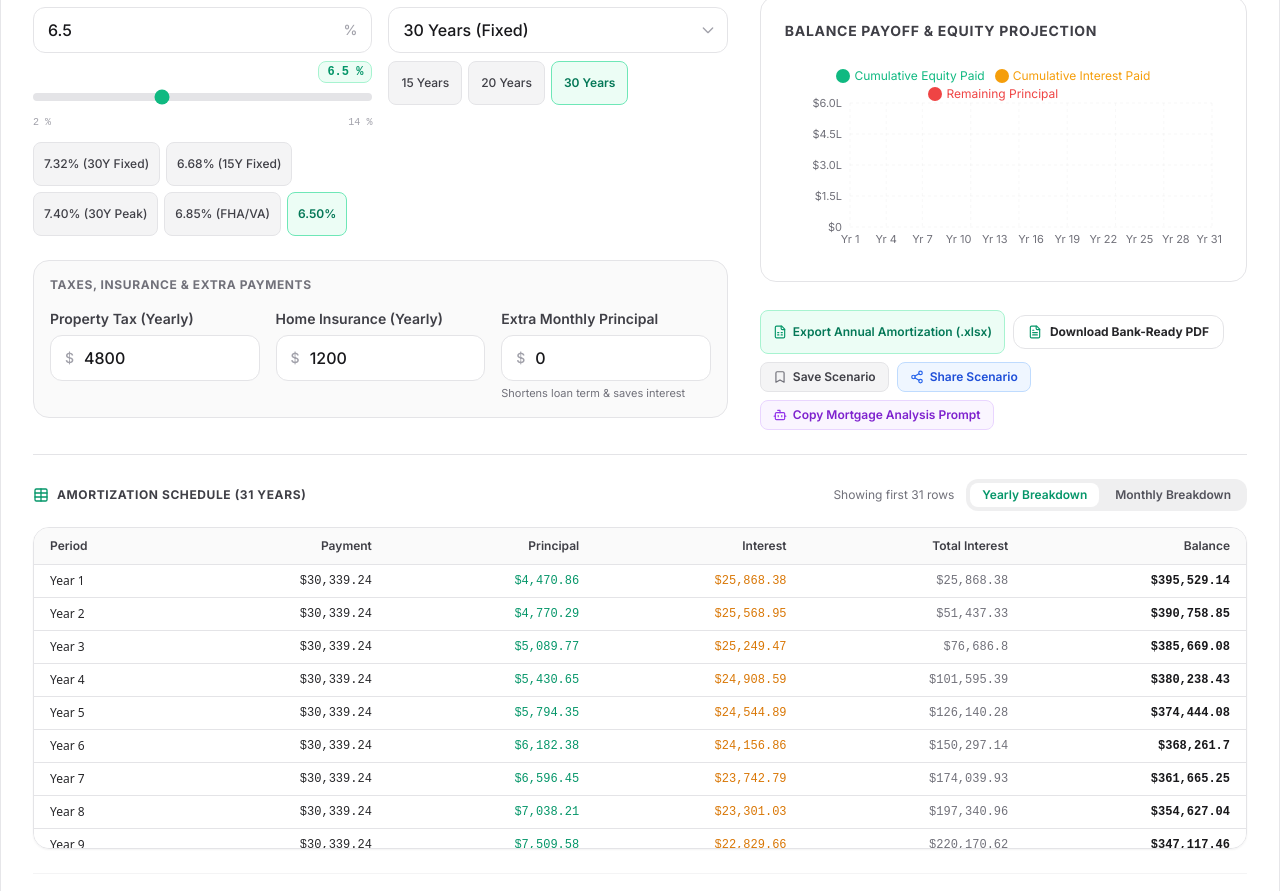
Test: Financial Crown Tools Suite (Mortgage, Car Loan, Retirement, Inflation) › MortgageCalculator › allows toggling between yearly and monthly amortization schedules
(page scrolled)
Click the button "Monthly Breakdown": (1173, 495) [1103, 483, 1243, 507]
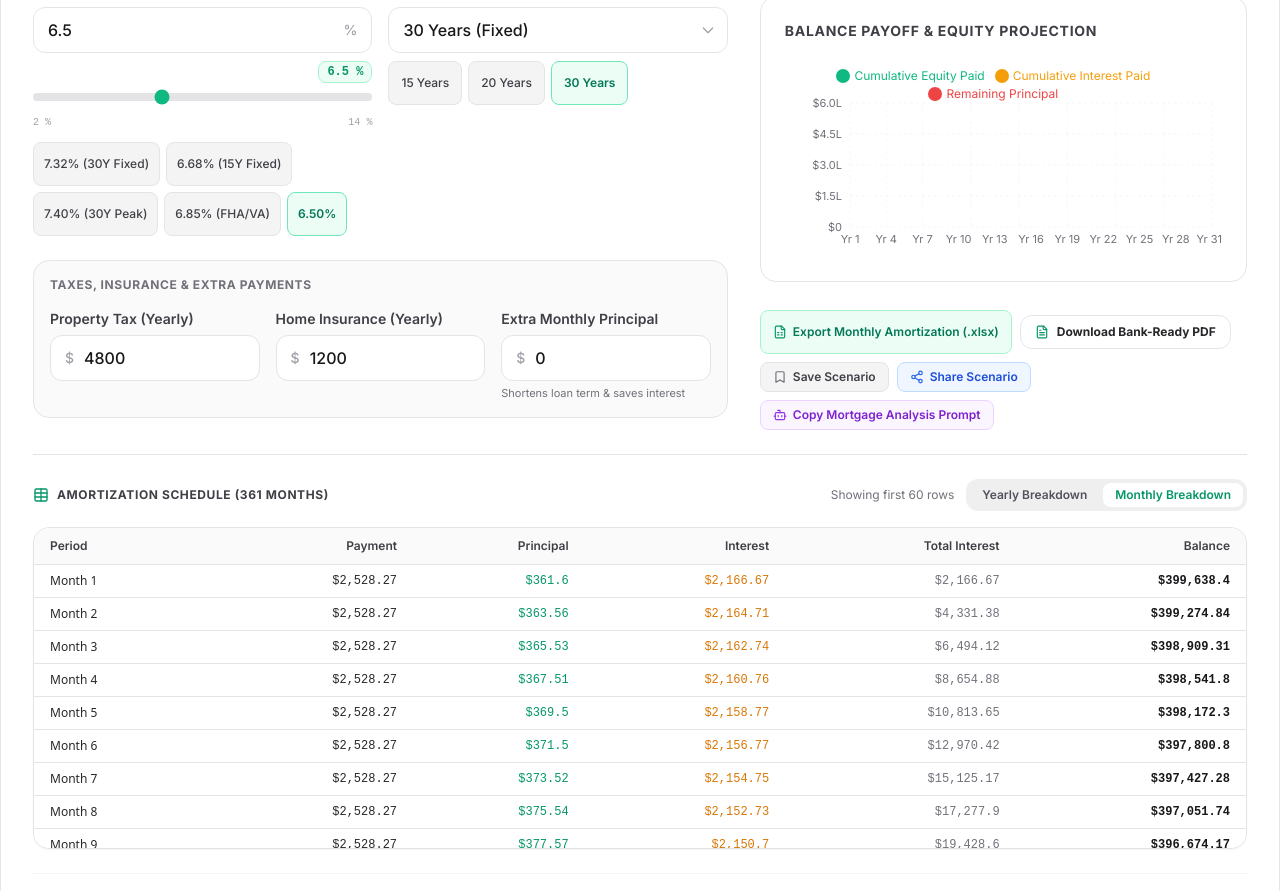
Expected: the text "Month 1" is shown, [34, 564, 212, 597]
Click the button "Yearly Breakdown": (1035, 495) [970, 483, 1099, 507]
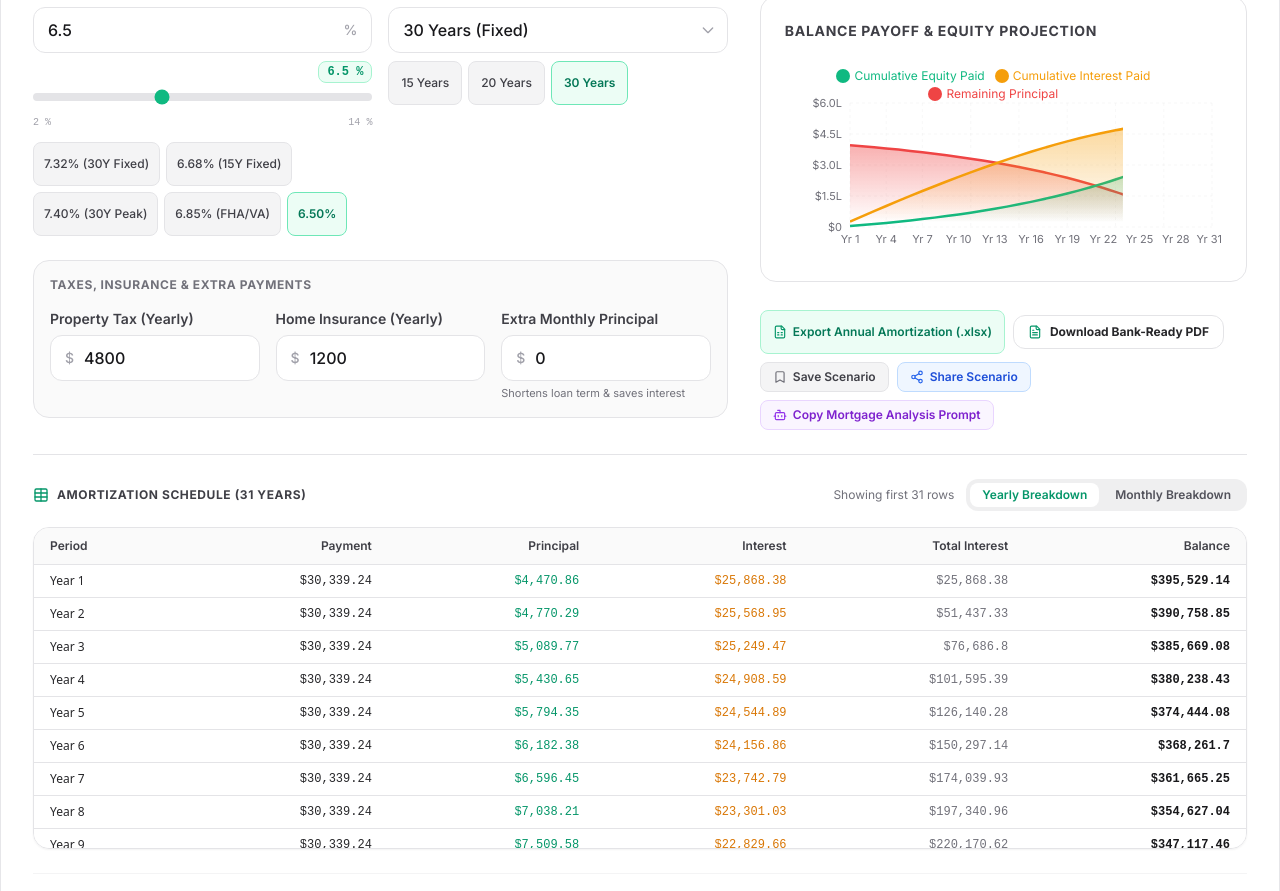
Expected: the text "Year 1" is shown, [34, 564, 180, 597]
